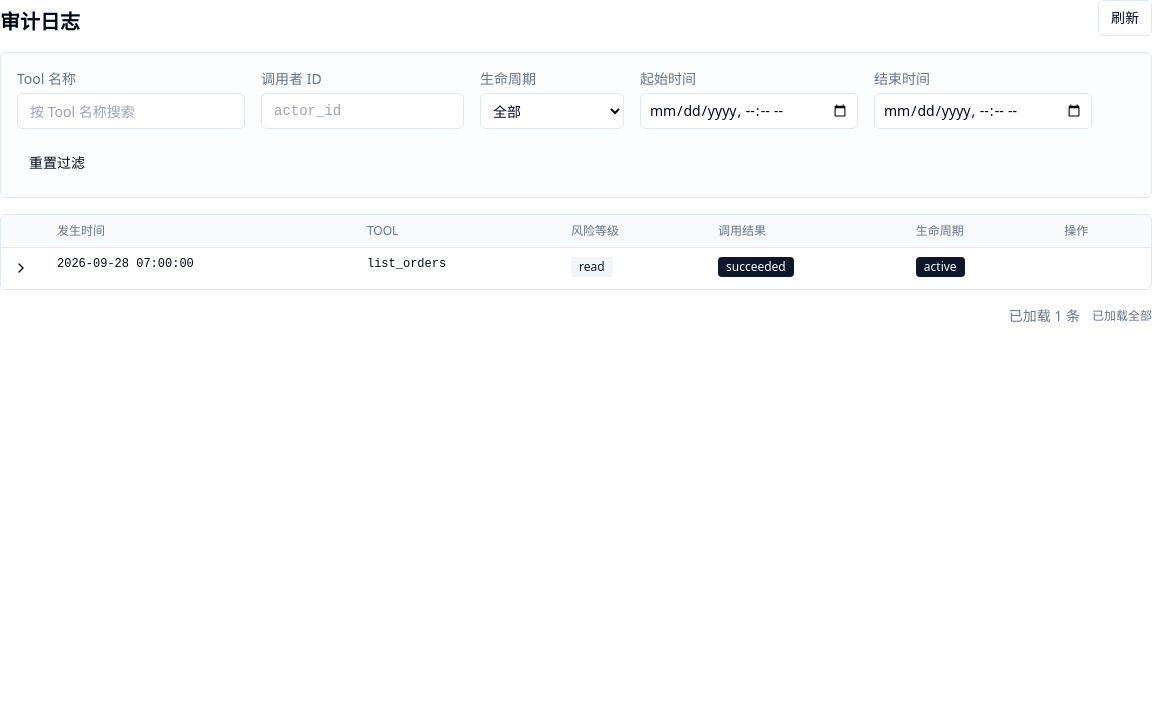
AuditLogsTable › renders the row-detail payload (parameters / response / tool_snapshot) as JSON
expect the row with test id "audit-log-row-json-1" is shown: met, box [1, 248, 1151, 289]
Click the button with test id "audit-log-toggle-json-1".
click(21, 268)  # box [9, 256, 33, 280]
(page scrolled)
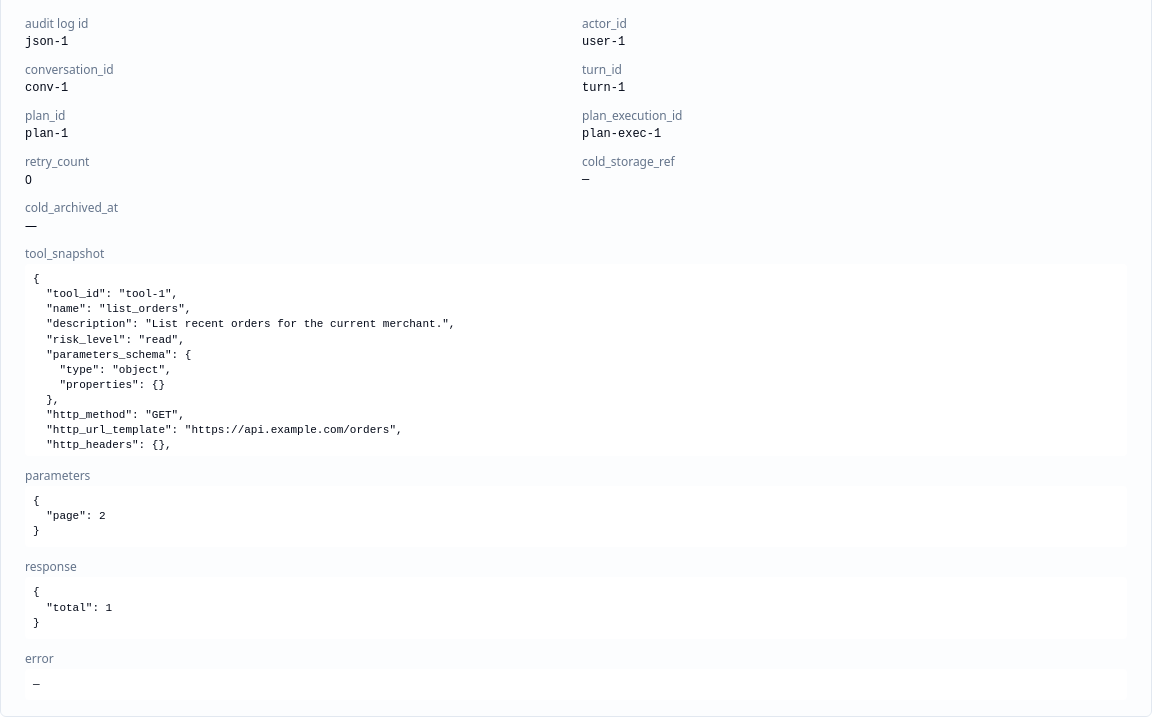
expect the text with test id "parameters-json-1" shows "\"page\": 2": met, box [33, 495, 106, 537]
expect the text with test id "response-json-1" shows "\"total\": 1": met, box [33, 586, 112, 629]
expect the text with test id "tool-snapshot-json-1" shows "list_orders": met, box [33, 273, 456, 482]
